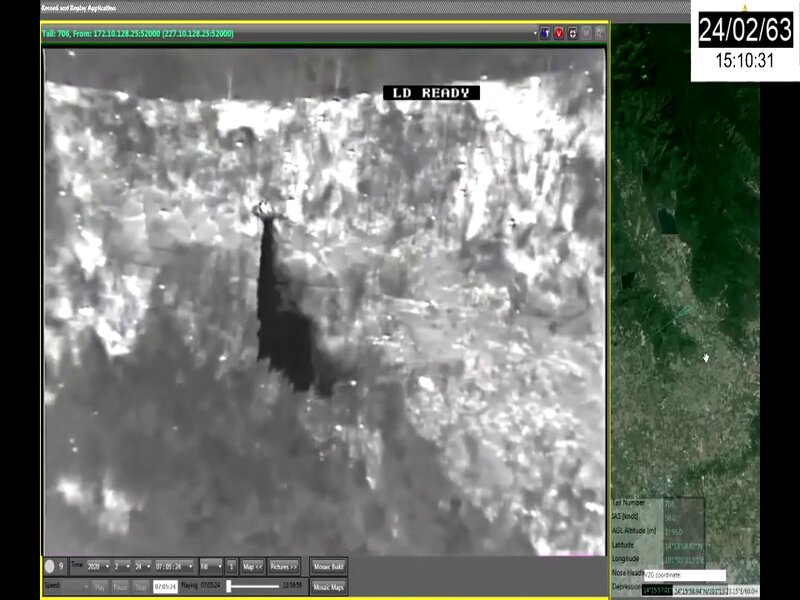Fire: (482, 79, 604, 300)
